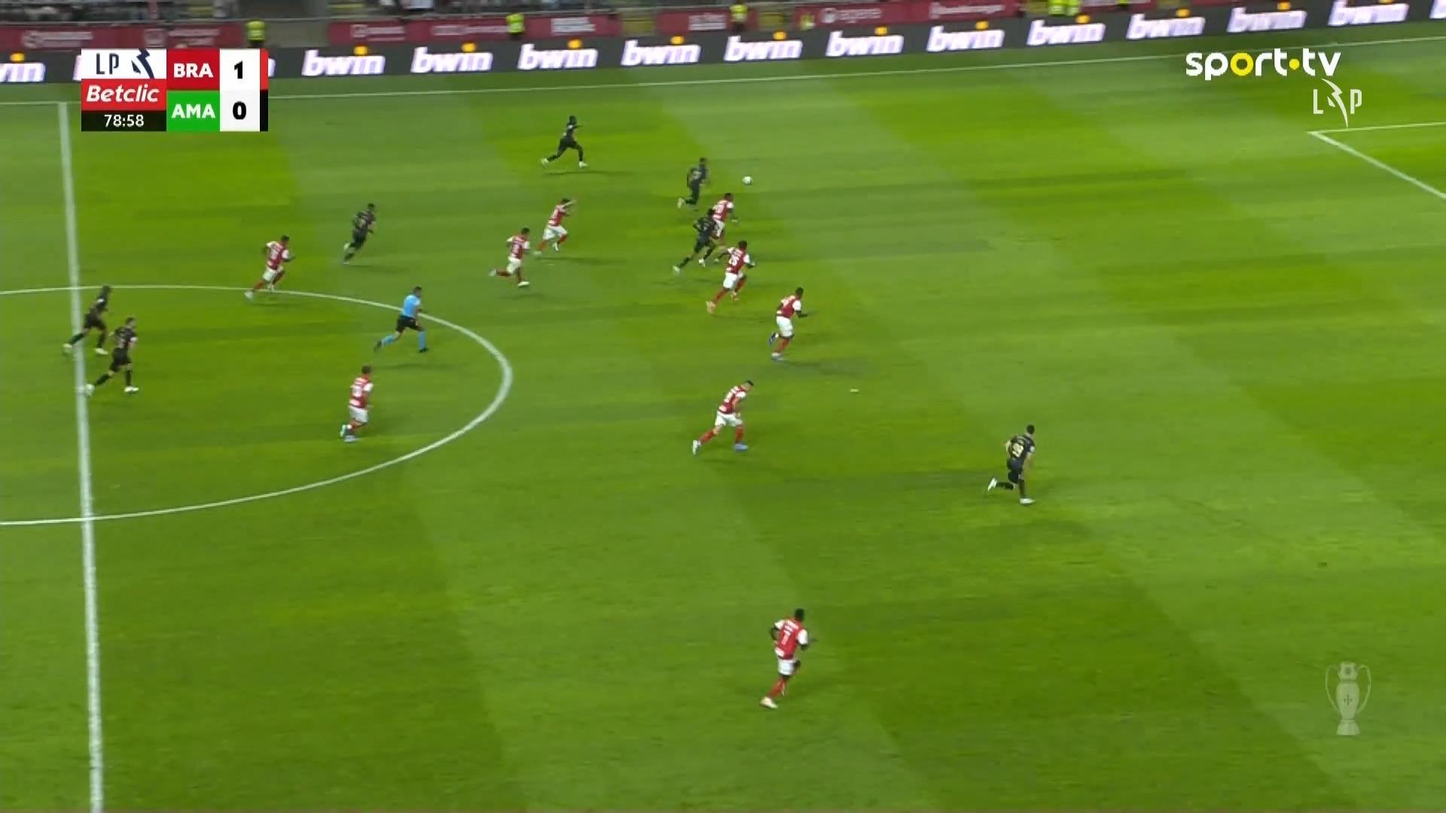ball: (797, 629, 807, 645), (741, 175, 751, 185)
player: (759, 607, 812, 709), (690, 379, 754, 456), (81, 315, 139, 397), (986, 423, 1036, 504), (705, 239, 756, 315), (61, 284, 112, 356), (243, 233, 294, 300), (672, 209, 722, 273), (767, 285, 808, 360), (338, 364, 374, 442), (487, 226, 532, 288), (539, 114, 587, 169), (533, 196, 576, 256), (341, 202, 377, 264), (676, 156, 709, 208), (707, 191, 737, 239)
referee: (372, 285, 429, 353)
